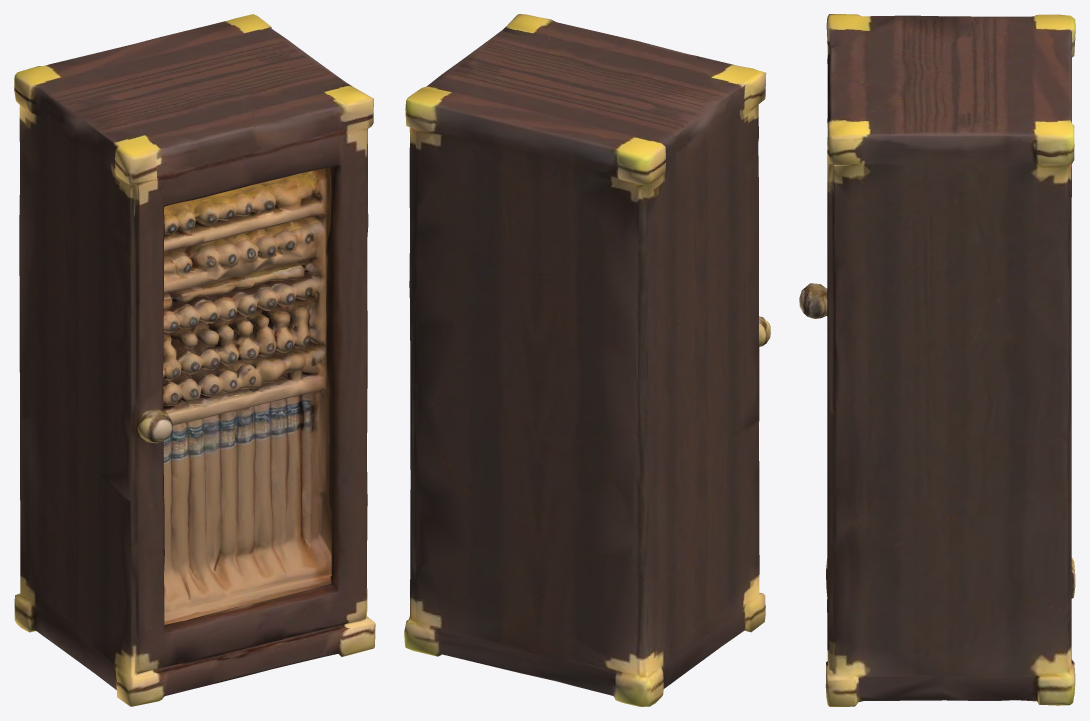
The model's file is cigar-humidor.glb.
3 views of the same model, side by side, from view 1: azimuth 30°, elevation 25°; view 2: azimuth 150°, elevation 25°; view 3: azimuth 270°, elevation 25° (orthographic). The views are drawn at different scales.
Size of the model in its own units: 0.9378 by 2 by 0.8778.
Materials: 1 (1 with a texture image).
